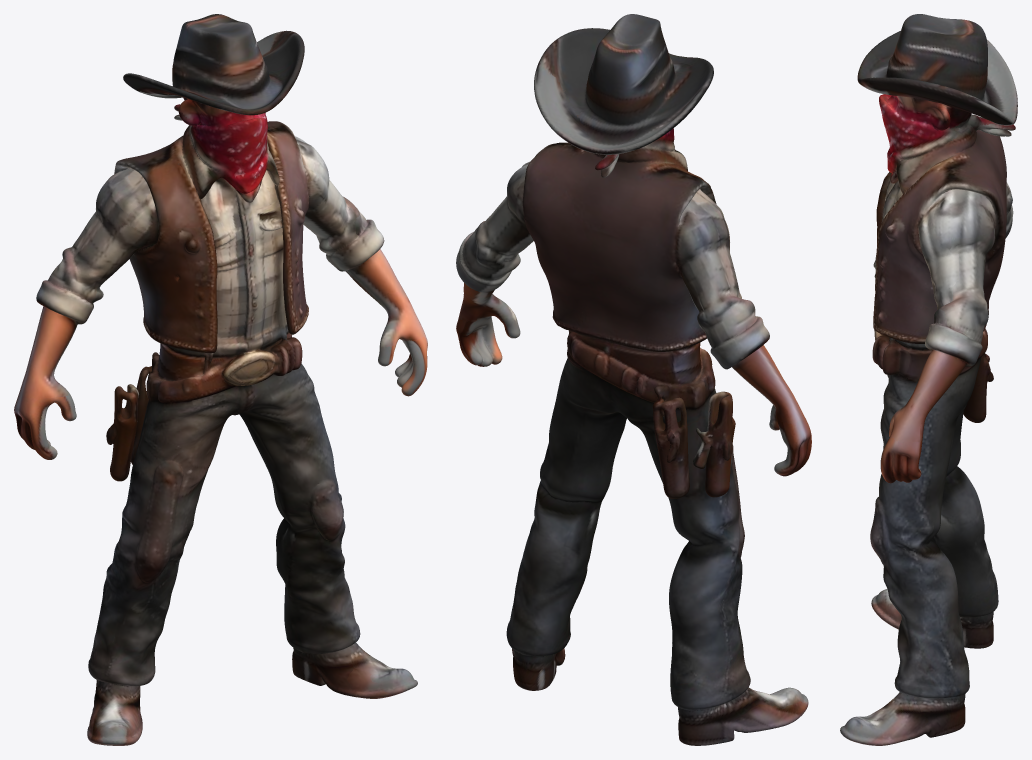
The model's file is kowboj.glb.
The picture shows the model from 3 angles, left to right: view 1: azimuth 30°, elevation 25°; view 2: azimuth 150°, elevation 25°; view 3: azimuth 270°, elevation 25°; orthographic projection. The views are drawn at different scales.
Visible parts, largest first — view 1: tripo_node_1b9990bc-4840-4f87-9ce4-8e5c57f3658b; view 2: tripo_node_1b9990bc-4840-4f87-9ce4-8e5c57f3658b; view 3: tripo_node_1b9990bc-4840-4f87-9ce4-8e5c57f3658b.
Boxes of the visible parts, bbox=[...] form: tripo_node_1b9990bc-4840-4f87-9ce4-8e5c57f3658b: bbox=[14, 14, 427, 745]; tripo_node_1b9990bc-4840-4f87-9ce4-8e5c57f3658b: bbox=[456, 14, 811, 745]; tripo_node_1b9990bc-4840-4f87-9ce4-8e5c57f3658b: bbox=[840, 14, 1017, 745].
Bounding box in the file's own units: 0.5793 × 1 × 0.2434.
Materials: 1 (1 with a texture image).
